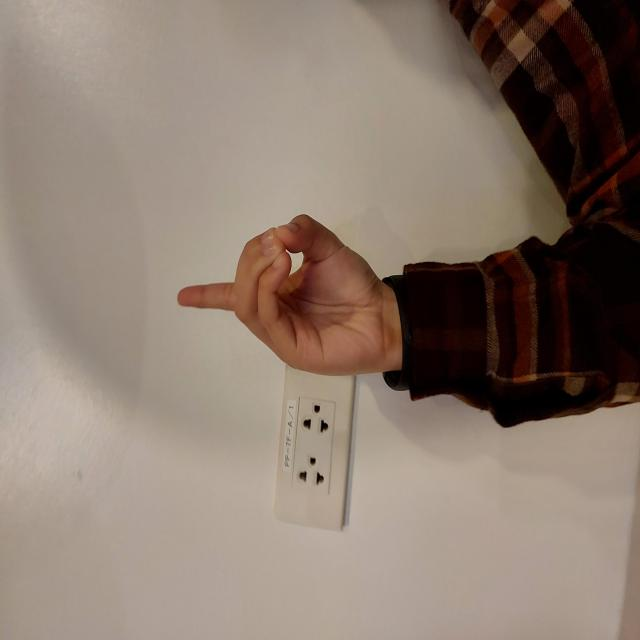D: (259, 172, 434, 394)
